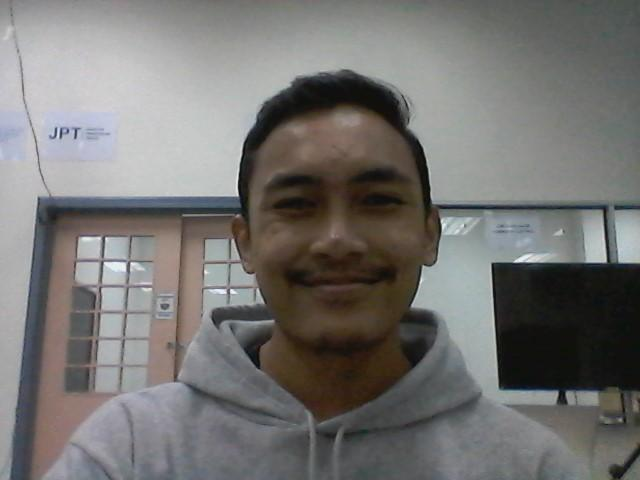senang: (225, 75, 433, 350)
